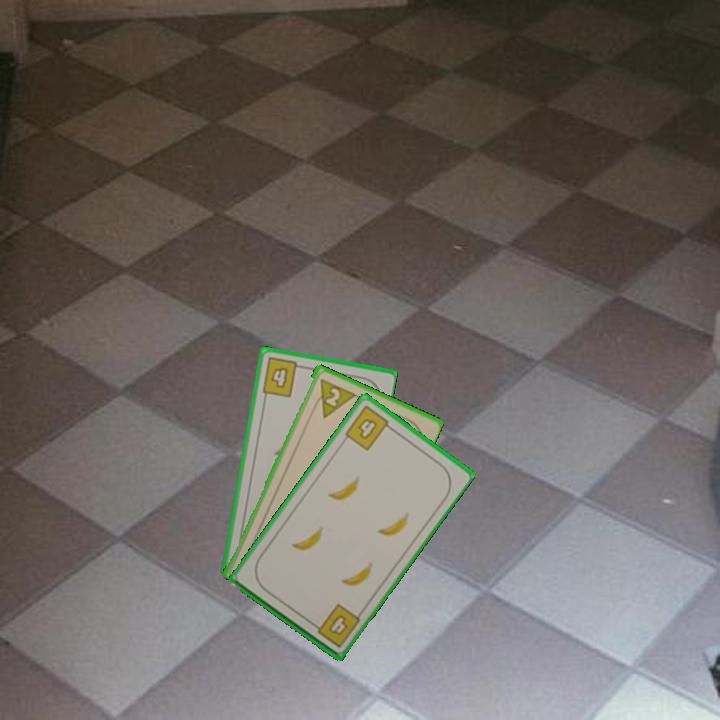2p: (322, 384, 343, 409)
4b: (341, 402, 396, 453), (308, 600, 363, 650), (258, 354, 306, 400)
